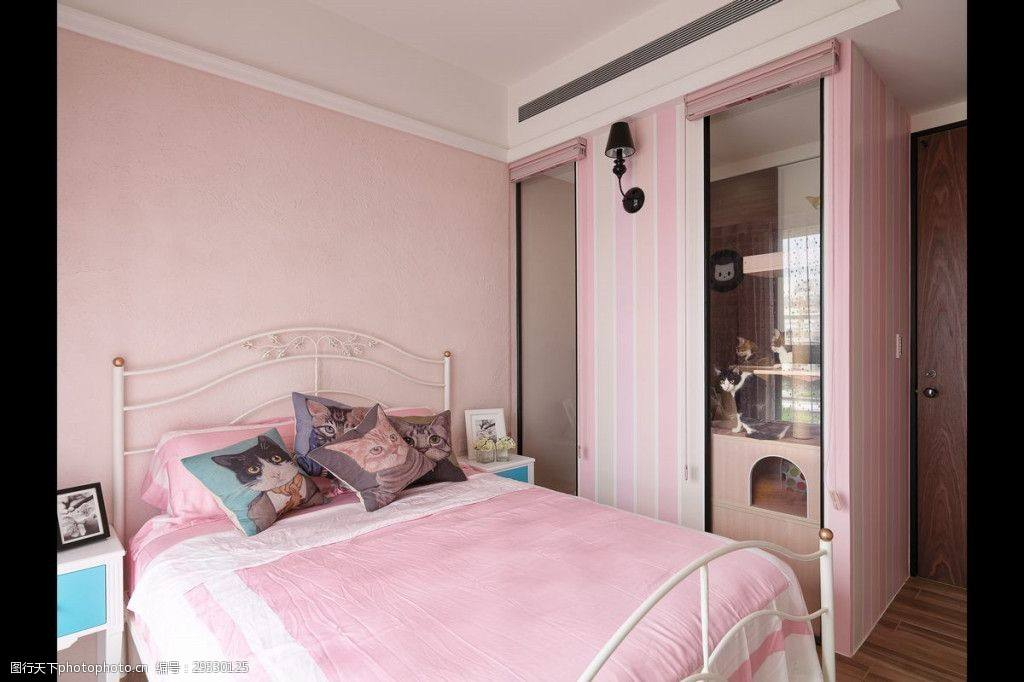床: (91, 476, 819, 679)
枕头: (168, 435, 350, 541), (293, 401, 463, 503)
灯: (595, 117, 649, 215)
